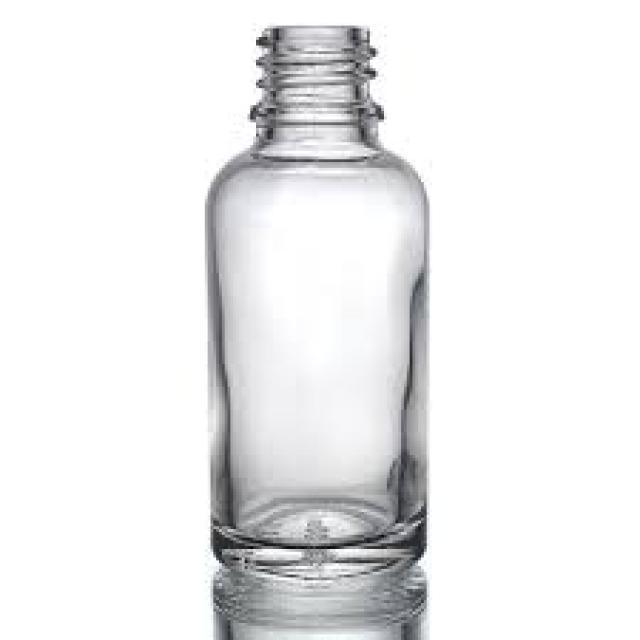Glass: (200, 23, 428, 573)
